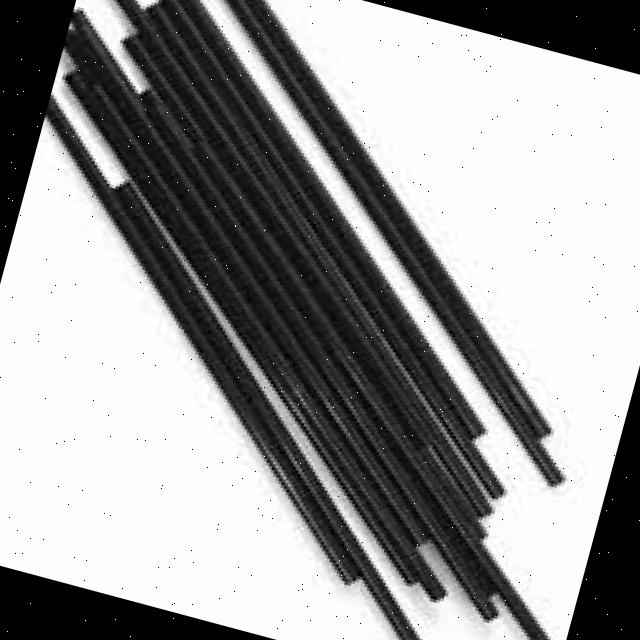plastic: (130, 0, 640, 511)
